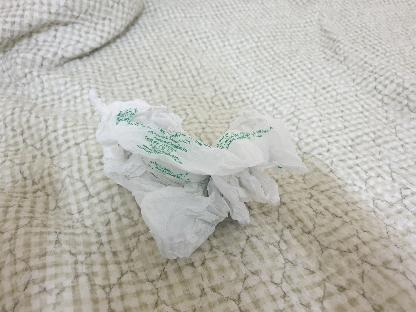Plastic Bag: (96, 98, 310, 262)
